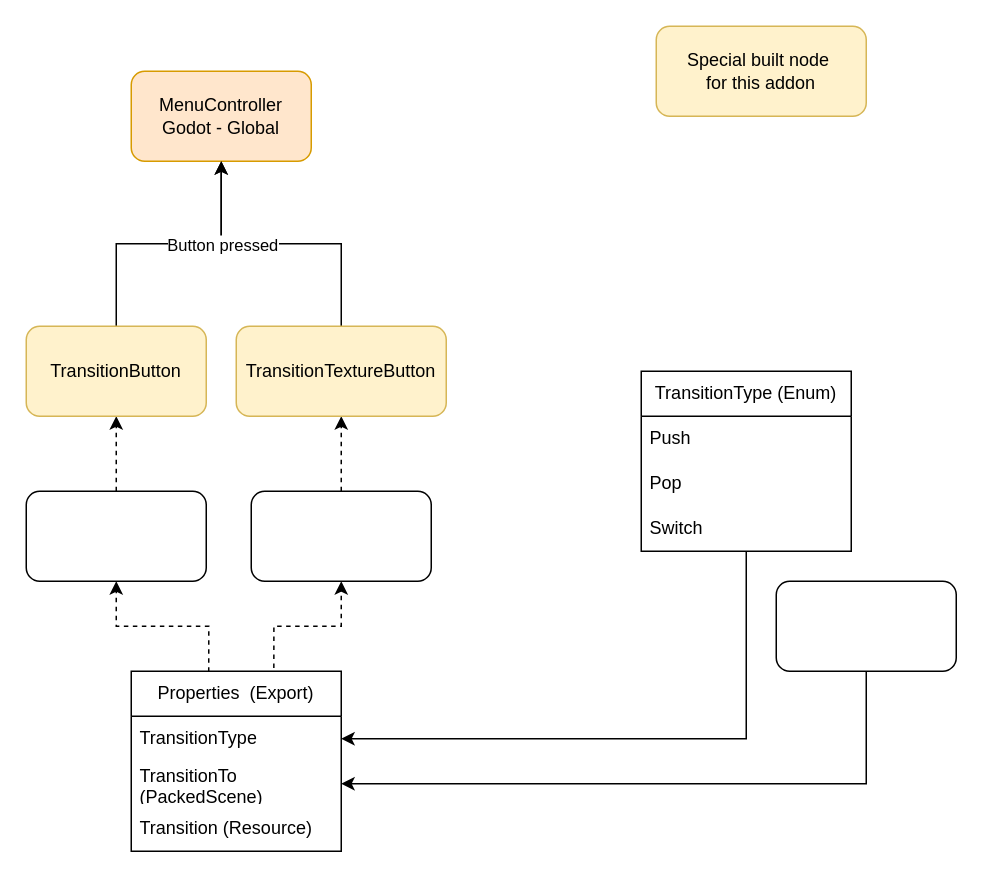
Image size: 983x878. Some labels were removed from this diagram. The shapes that lost their labels are listed below. From the top down, each one's centre as x and y in pixels, then its label:
the point at 115,535: Button
the point at 340,535: TextureButton
the point at 865,625: Any Scene with the root derived from 'Control'
